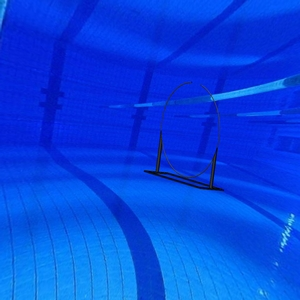circle: (143, 80, 227, 194)
